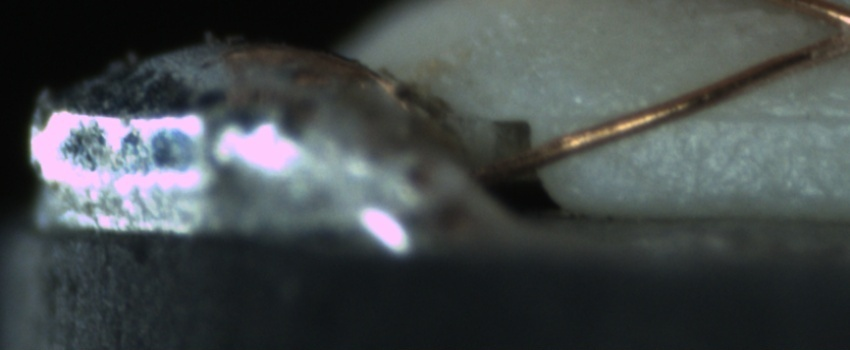DL: (611, 85, 850, 149)
